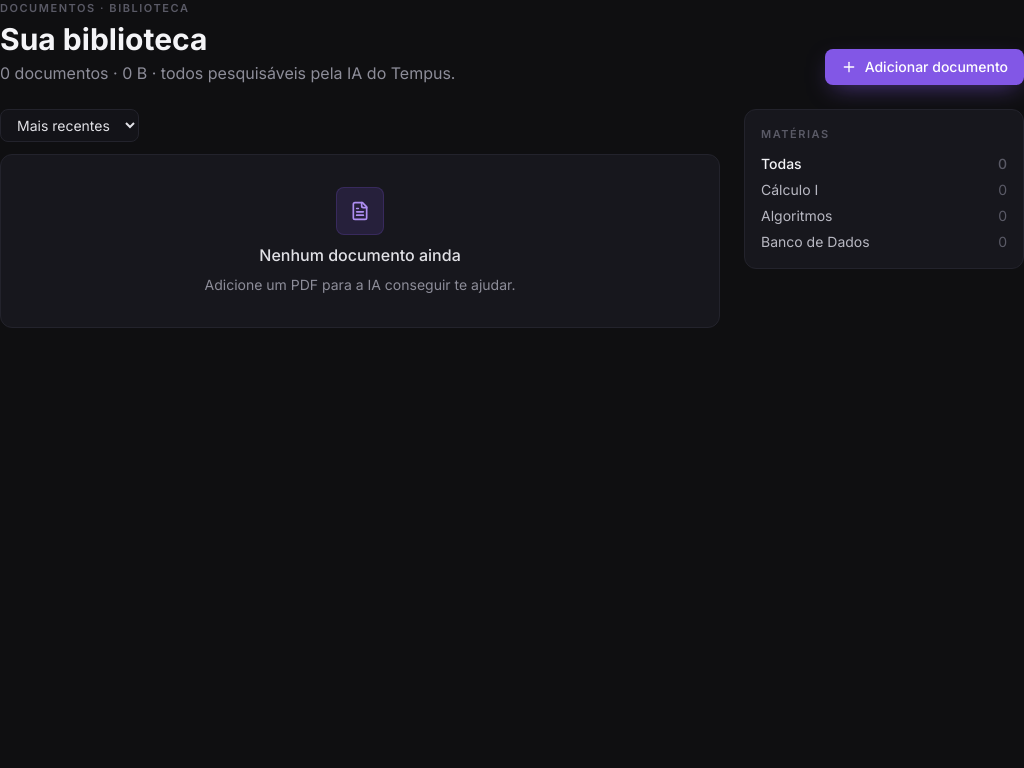
Test case: DocumentsPage › abre o UploadDocumentModal ao clicar em 'Adicionar documento'
Expected: the text "Nenhum documento ainda" is shown, x1=259 y1=244 x2=461 y2=264
Click the button "Adicionar documento" at [924, 66], box x1=825 y1=48 x2=1023 y2=84
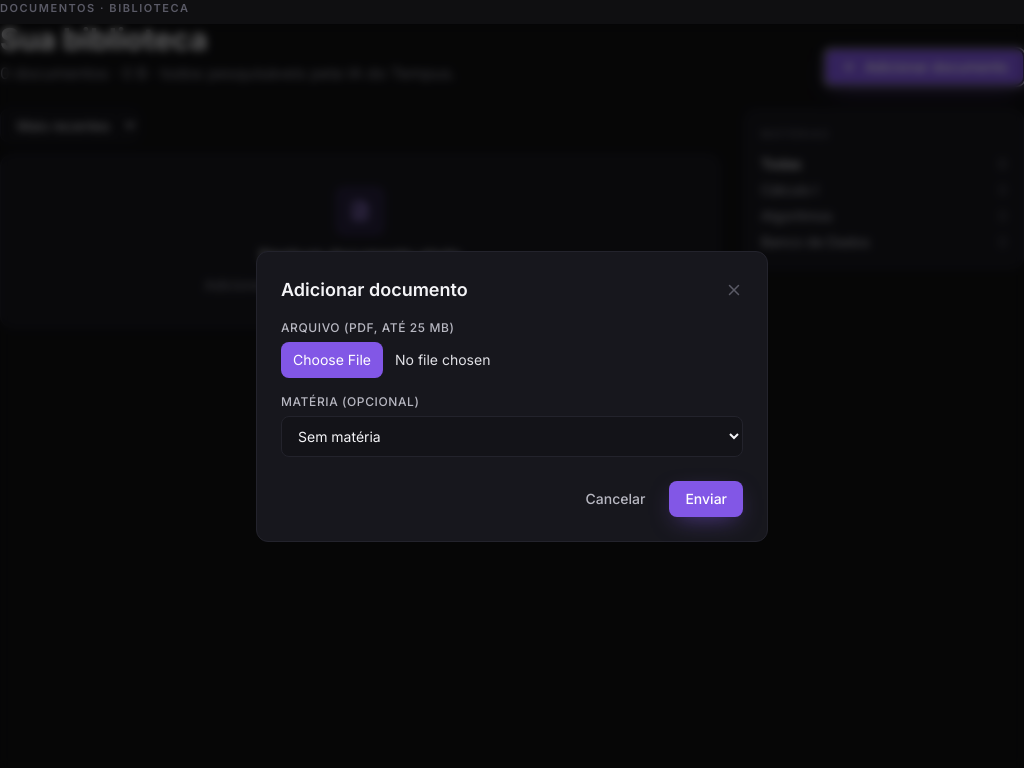
Now the heading "Adicionar documento" is shown, box x1=281 y1=276 x2=468 y2=304
